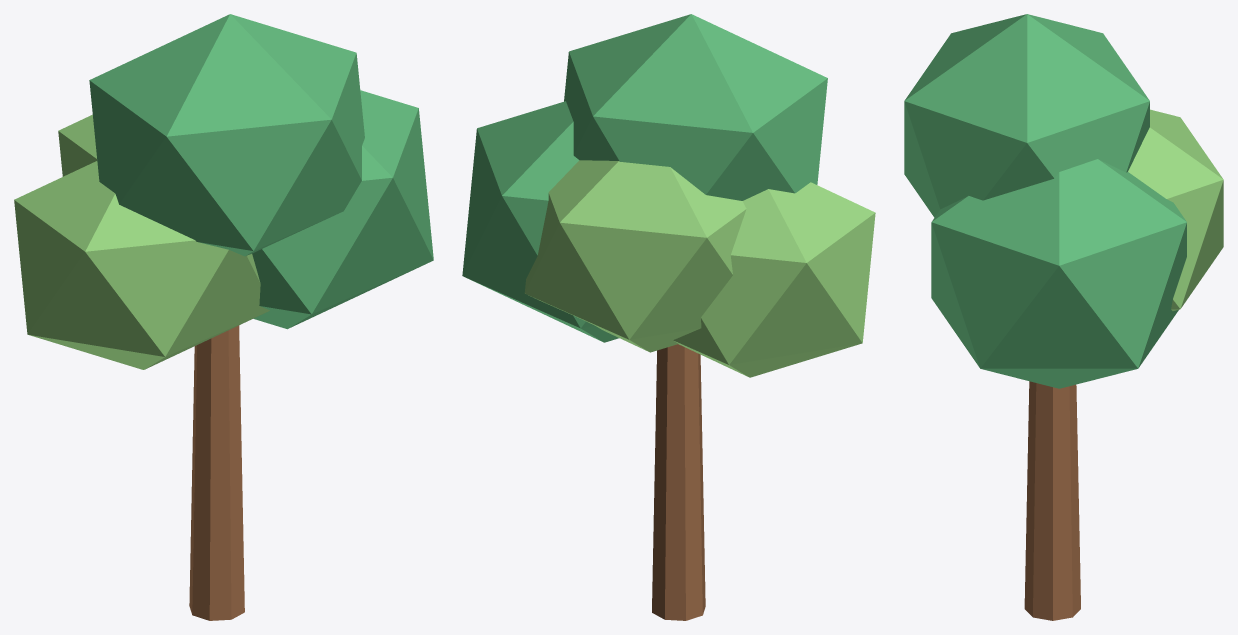
The model's file is tree.glb.
3 renders of one model, left to right at view 1: azimuth 30°, elevation 25°; view 2: azimuth 150°, elevation 25°; view 3: azimuth 270°, elevation 25°, orthographic. The views are drawn at different scales.
Parts seen in each view (by area): view 1: Rounded crown.003, Rounded crown, Rounded crown.001, Trunk, Rounded crown.002; view 2: Rounded crown.003, Rounded crown.002, Rounded crown, Rounded crown.001, Trunk; view 3: Rounded crown.001, Rounded crown.003, Trunk, Rounded crown.002.
Part boxes in pixels (bbox=[...]): Rounded crown.003: bbox=[89, 14, 364, 256]; Rounded crown: bbox=[14, 161, 269, 369]; Rounded crown.001: bbox=[252, 90, 433, 329]; Trunk: bbox=[189, 325, 244, 620]; Rounded crown.002: bbox=[58, 115, 97, 176]; Rounded crown.003: bbox=[564, 14, 827, 200]; Rounded crown.002: bbox=[524, 160, 746, 352]; Rounded crown: bbox=[673, 182, 875, 377]; Rounded crown.001: bbox=[462, 101, 619, 342]; Trunk: bbox=[652, 344, 705, 620]; Rounded crown.001: bbox=[931, 159, 1186, 388]; Rounded crown.003: bbox=[904, 14, 1149, 217]; Trunk: bbox=[1024, 381, 1080, 620]; Rounded crown.002: bbox=[1128, 109, 1223, 310].
Bounding box in the file's own units: 3.49 × 5.11 × 2.49.
